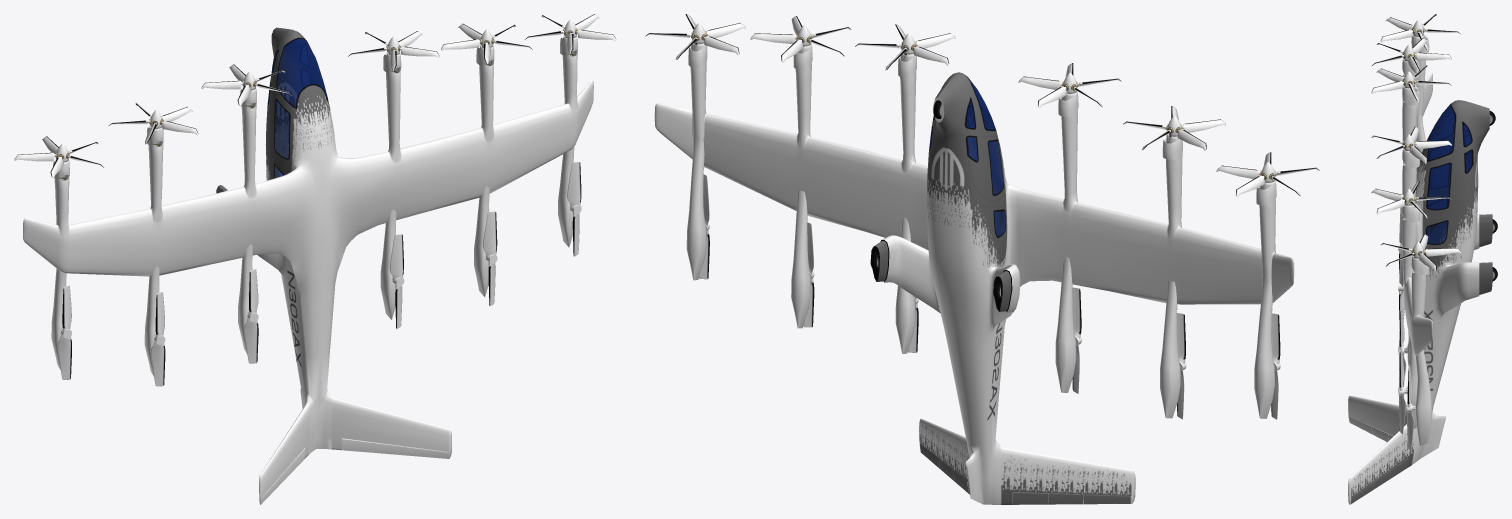
File: archer-evtol.glb
3 renders of one model, left to right at view 1: azimuth 30°, elevation 25°; view 2: azimuth 150°, elevation 25°; view 3: azimuth 270°, elevation 25°, orthographic. The views are drawn at different scales.
Visible parts, largest first — view 1: Body_Low, Glass, PropBladeBack2, PropBladeBack3, PropBladeBack1, PropBladeBack5, PropBladeBack4, PropBladeBack6, PropBlade007, PropBlade009, PropBlade6, PropBlade4 (+2 smaller); view 2: Body_Low, Glass, PropBlade5, PropBlade4, PropBlade6, PropBlade007, PropBlade008, PropBlade009, PropBladeBack3, PropBladeBack1, PropBladeBack2; view 3: Body_Low, Glass, PropBlade6, PropBlade007, PropBlade4, PropBlade008, PropBlade5, PropBlade009, PropBladeBack6, PropBladeBack5, PropBladeBack4, PropBladeBack3 (+5 smaller).
Boxes of the visible parts, x1,y1,x2,y2 form: Body_Low: (23, 27, 593, 504); Glass: (268, 38, 327, 178); PropBladeBack2: (150, 291, 165, 386); PropBladeBack3: (244, 269, 258, 363); PropBladeBack1: (57, 285, 72, 379); PropBladeBack5: (483, 211, 497, 306); PropBladeBack4: (389, 234, 404, 328); PropBladeBack6: (567, 161, 581, 256); PropBlade007: (201, 64, 291, 106); PropBlade009: (14, 136, 104, 178); PropBlade6: (525, 14, 616, 54); PropBlade4: (348, 31, 439, 71); Body_Low: (654, 61, 1294, 504); Glass: (929, 79, 1005, 236); PropBlade5: (750, 16, 850, 62); PropBlade4: (855, 24, 955, 70); PropBlade6: (645, 14, 746, 59); PropBlade007: (1018, 63, 1121, 107); PropBlade008: (1123, 106, 1225, 150); PropBlade009: (1216, 152, 1319, 196); PropBladeBack3: (1072, 287, 1081, 393); PropBladeBack1: (1271, 313, 1280, 419); PropBladeBack2: (1177, 313, 1186, 419); Body_Low: (1348, 56, 1492, 504); Glass: (1426, 104, 1472, 243); PropBlade6: (1381, 234, 1461, 271); PropBlade007: (1371, 65, 1451, 101); PropBlade4: (1371, 126, 1451, 163); PropBlade008: (1371, 38, 1451, 75); PropBlade5: (1371, 181, 1451, 218); PropBlade009: (1381, 14, 1460, 50); PropBladeBack6: (1406, 365, 1416, 450); PropBladeBack5: (1398, 349, 1407, 434); PropBladeBack4: (1398, 308, 1407, 386); PropBladeBack3: (1398, 244, 1404, 329).
Bounding box in the file's own units: 14.02 × 9.3 × 3.48.
Materials: 2 (1 with a texture image).
